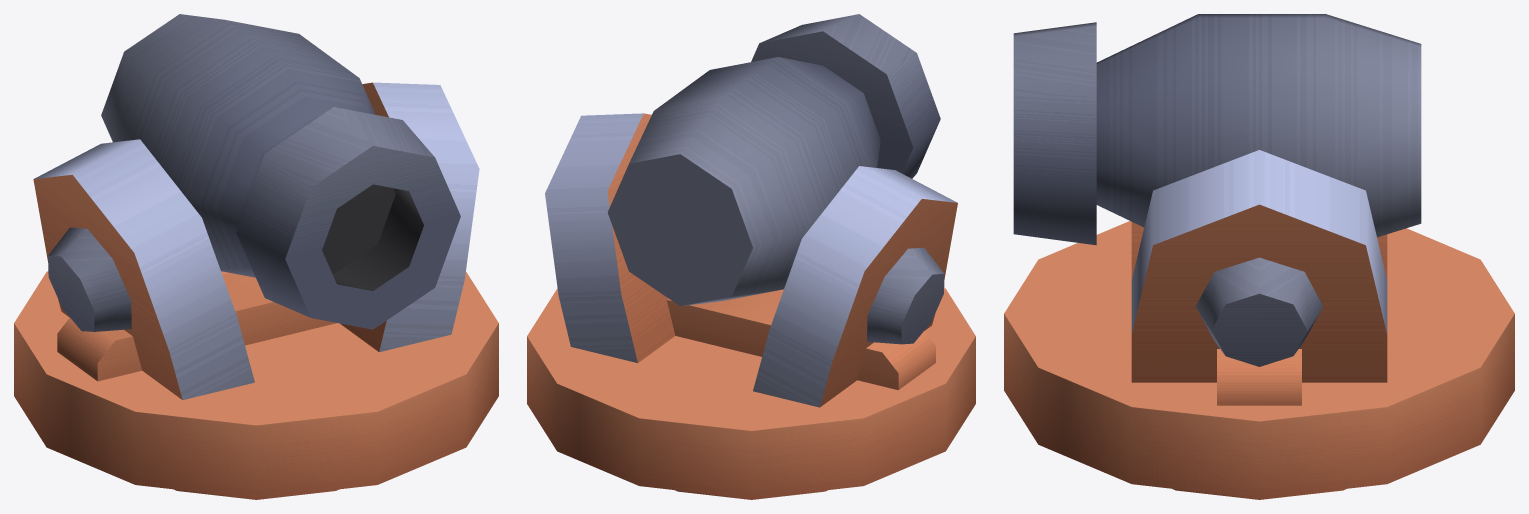
Rendered from weapon-cannon.glb.
3 renders of one model, left to right at view 1: azimuth 30°, elevation 25°; view 2: azimuth 150°, elevation 25°; view 3: azimuth 270°, elevation 25°, orthographic. The views are drawn at different scales.
Visible parts, largest first — view 1: weapon-cannon; view 2: weapon-cannon; view 3: weapon-cannon.
Part boxes in pixels (left/top/right/bottom): weapon-cannon: left=14, top=14, right=498, bottom=499; weapon-cannon: left=527, top=14, right=975, bottom=499; weapon-cannon: left=1004, top=14, right=1514, bottom=499.
Bounding box in the file's own units: 0.6 × 0.5328 × 0.6.
Materials: 1 (1 with a texture image).
